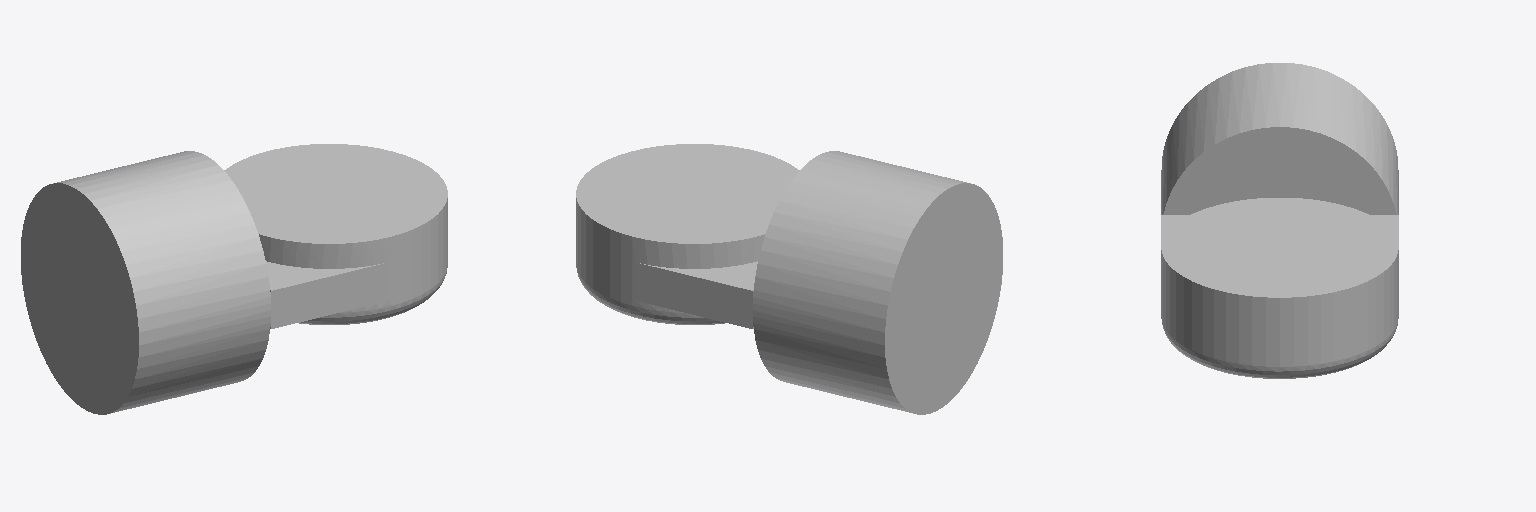
The model's file is hip_franki.obj.
3 renders of one model, left to right at view 1: azimuth 30°, elevation 25°; view 2: azimuth 150°, elevation 25°; view 3: azimuth 270°, elevation 25°, orthographic.
Parts seen in each view (by area): view 1: Body1; view 2: Body1; view 3: Body1.
Boxes of the visible parts, x1,y1,x2,y2 form: Body1: [21, 144, 447, 414]; Body1: [576, 144, 1002, 414]; Body1: [1161, 63, 1398, 378].
Size of the model in its own units: 0.192 by 0.112 by 0.112.